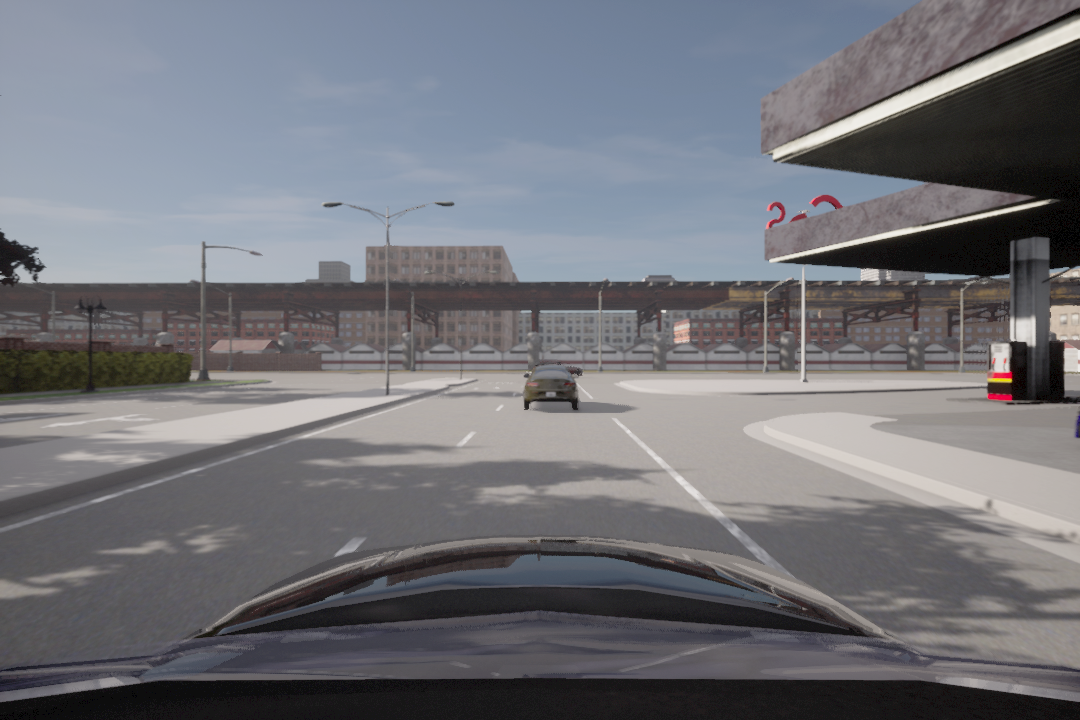RoadSign_forward_left: (39, 411, 156, 428)
